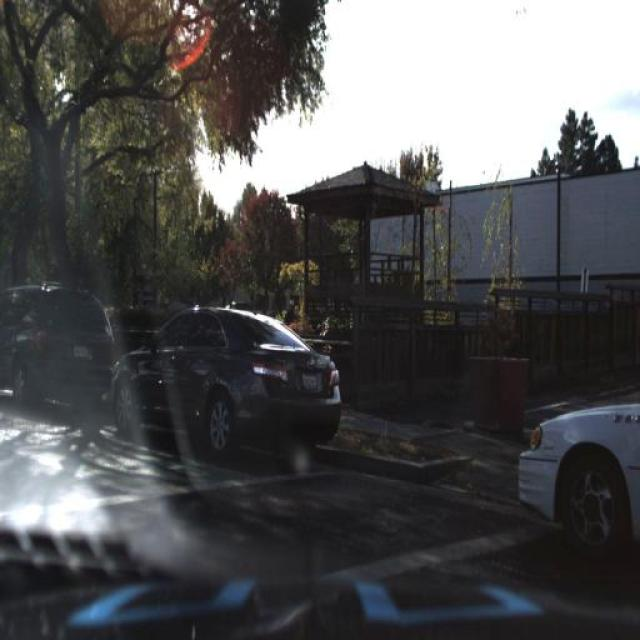car: (105, 273, 349, 477), (0, 280, 116, 420)
